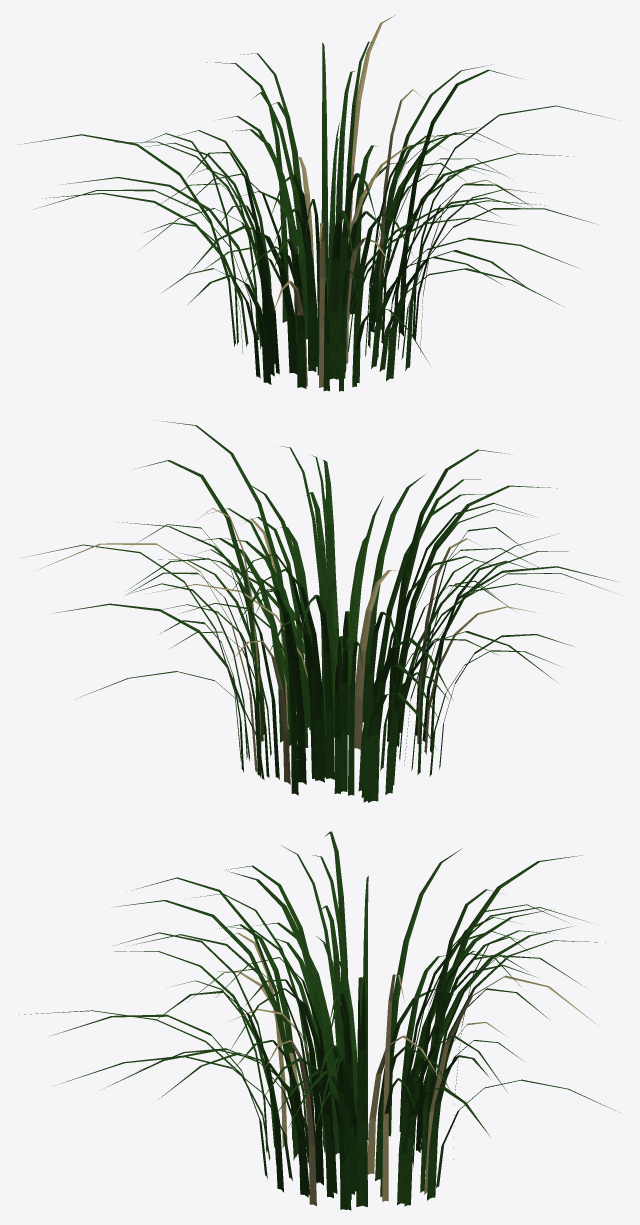
File: Woodland_Grass_Tuft_02_LOD0.fbx
3 renders of one model, top to bottom at view 1: azimuth 30°, elevation 25°; view 2: azimuth 150°, elevation 25°; view 3: azimuth 270°, elevation 25°, orthographic. The views are drawn at different scales.
Visible parts, largest first — view 1: Woodland_Grass_Tuft_02_LOD0_Foliage; view 2: Woodland_Grass_Tuft_02_LOD0_Foliage; view 3: Woodland_Grass_Tuft_02_LOD0_Foliage.
Boxes of the visible parts, x1,y1,x2,y2 form: Woodland_Grass_Tuft_02_LOD0_Foliage: (22,15,615,391); Woodland_Grass_Tuft_02_LOD0_Foliage: (22,421,616,802); Woodland_Grass_Tuft_02_LOD0_Foliage: (18,831,615,1210).
Size of the model in its own units: 109 by 51.69 by 107.
Materials: 2 (1 with a texture image).
